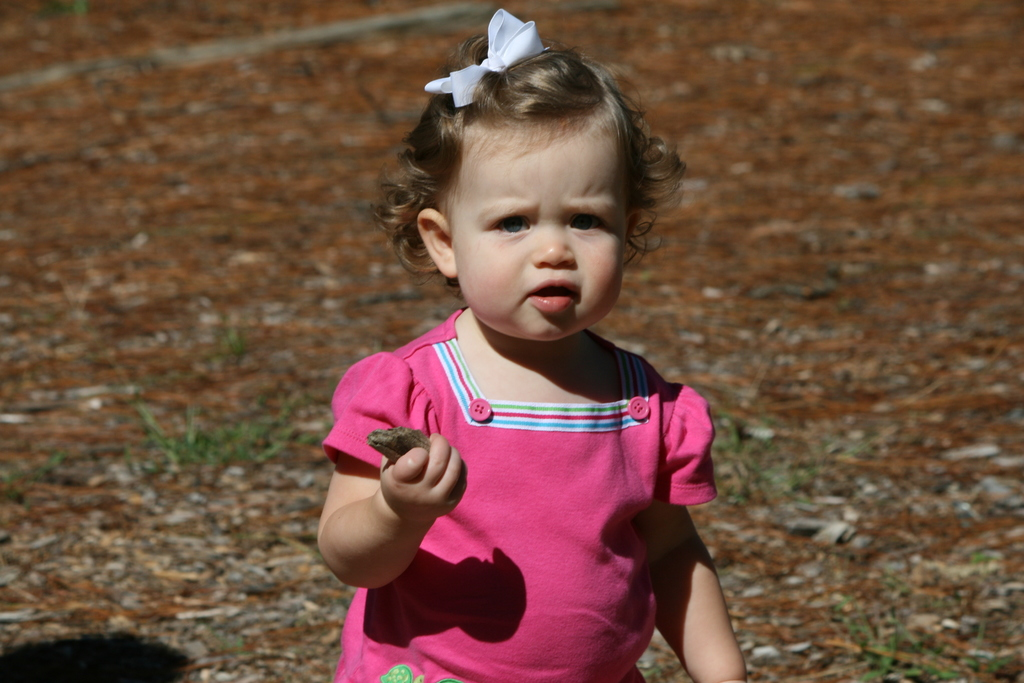Human_hand: (333, 420, 488, 584)
